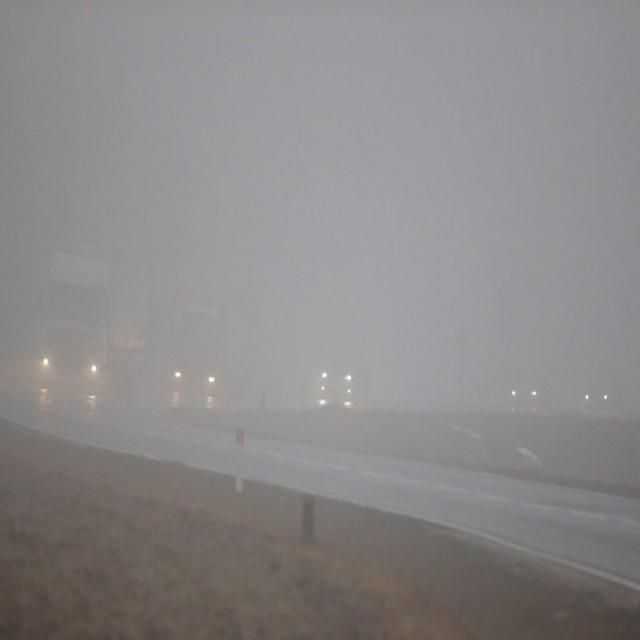bus: (38, 249, 144, 393), (172, 285, 262, 392)
car: (319, 348, 369, 400), (509, 371, 551, 405), (584, 379, 620, 411)
